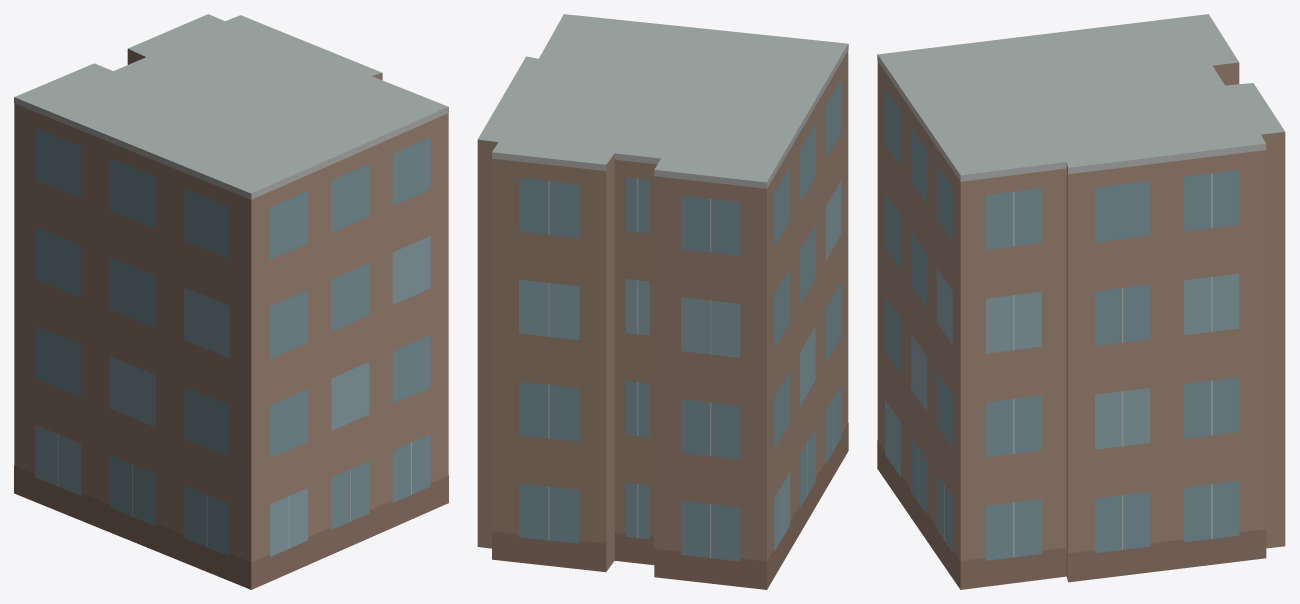
File: survey-upis-32589746.glb
3 views of the same model, side by side, from view 1: azimuth 30°, elevation 25°; view 2: azimuth 150°, elevation 25°; view 3: azimuth 270°, elevation 25° (orthographic). The views are drawn at different scales.
Parts seen in each view (by area): view 1: survey-upis-32589746.tmp; view 2: survey-upis-32589746.tmp; view 3: survey-upis-32589746.tmp.
Boxes of the visible parts, box(x1,y1,x2,y2) form: survey-upis-32589746.tmp: box(14, 14, 448, 589); survey-upis-32589746.tmp: box(477, 14, 848, 589); survey-upis-32589746.tmp: box(877, 14, 1285, 589).
Size of the model in its own units: 13.12 by 15.7 by 14.01.
